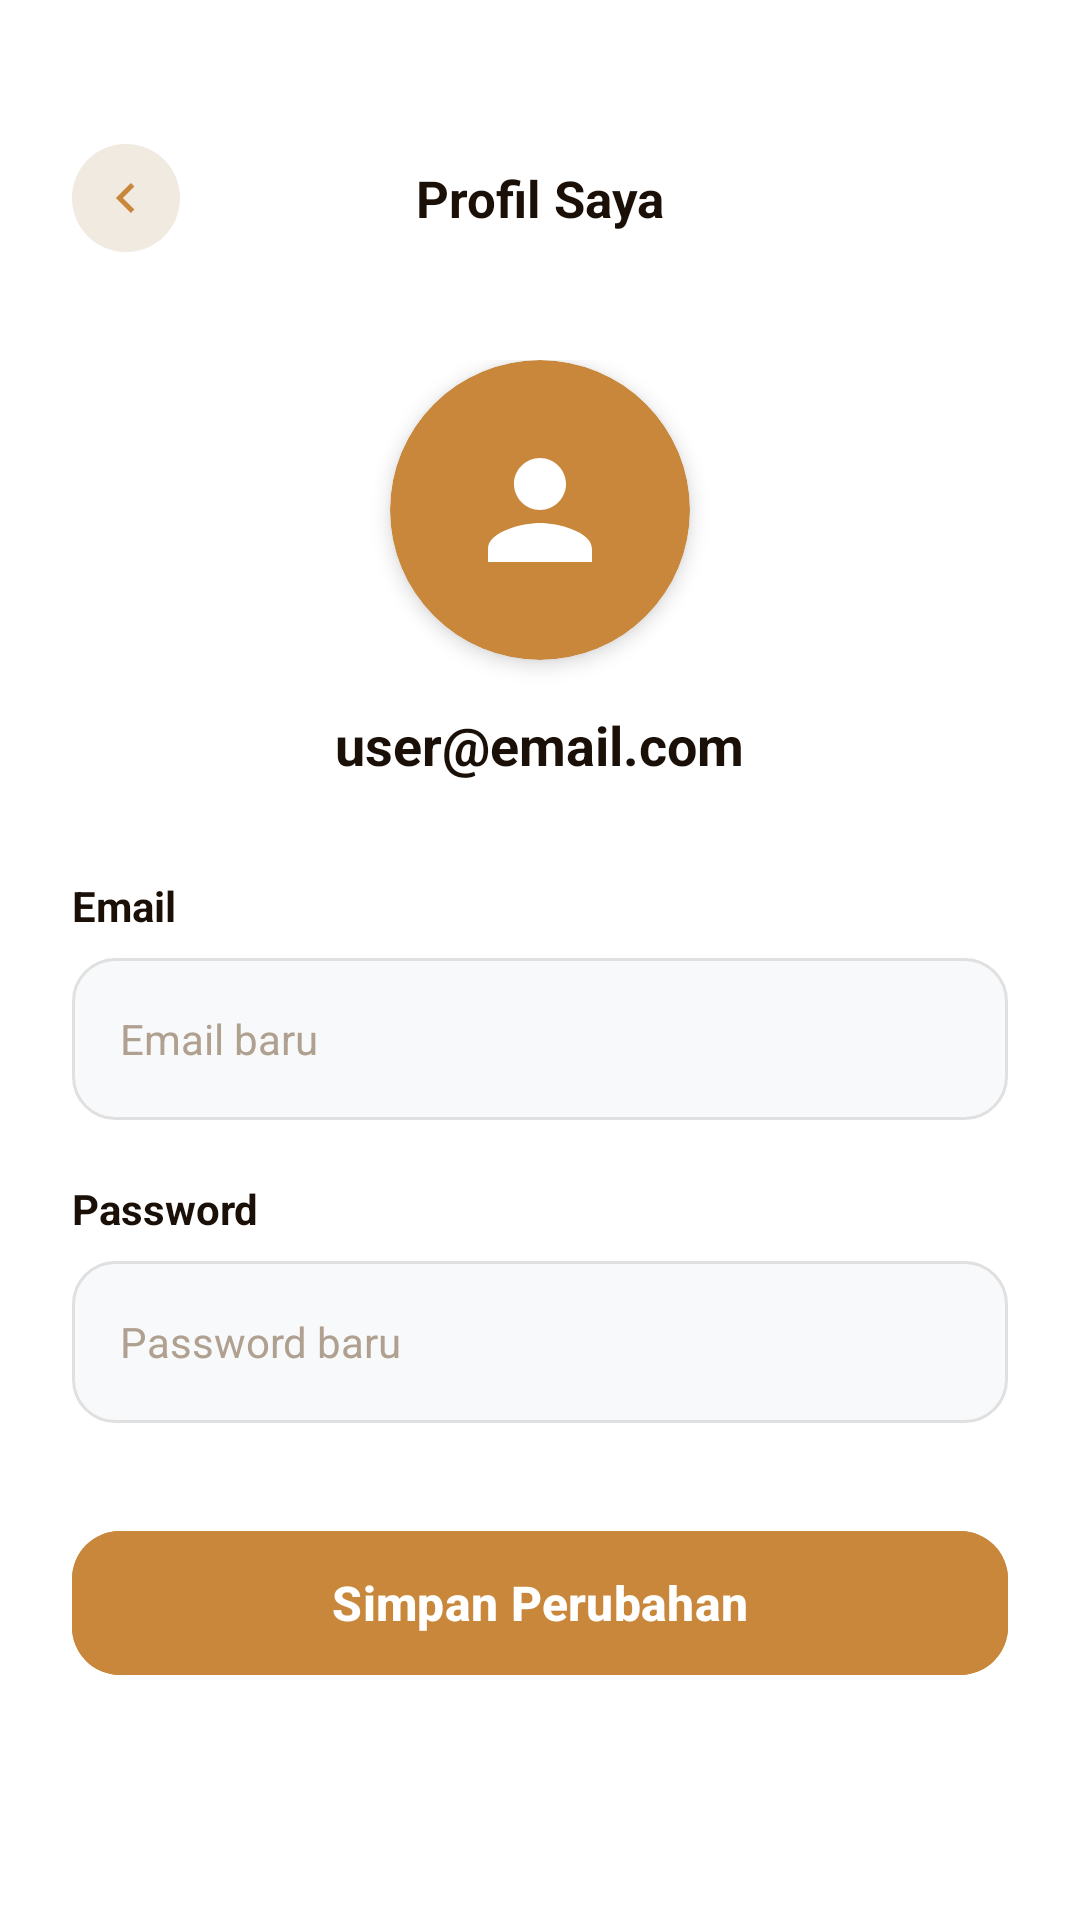

Screen size 1080px×1920px. Icon name, then its box in pixels as (x1, y1, x2, y2):
profile: (390, 360, 690, 660)
